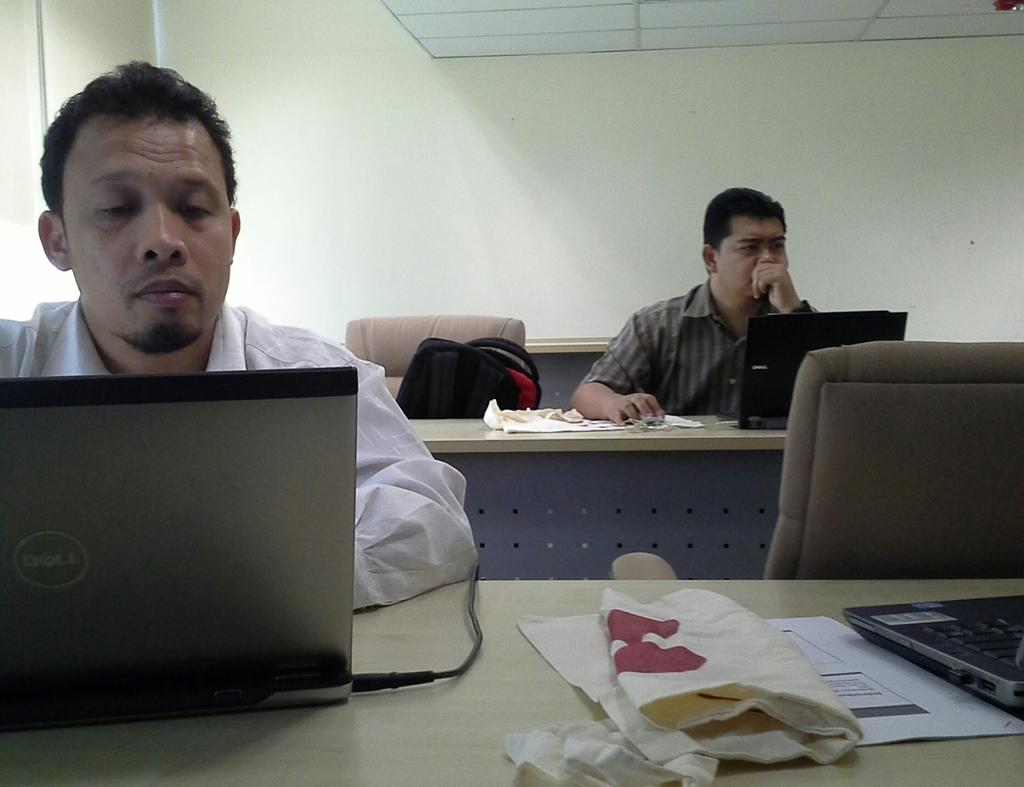Computer-keyboard: (918, 610, 1023, 669)
Computer-monitor: (0, 377, 368, 708)
Laptop: (0, 366, 355, 733), (714, 312, 909, 432), (843, 596, 1023, 712)
